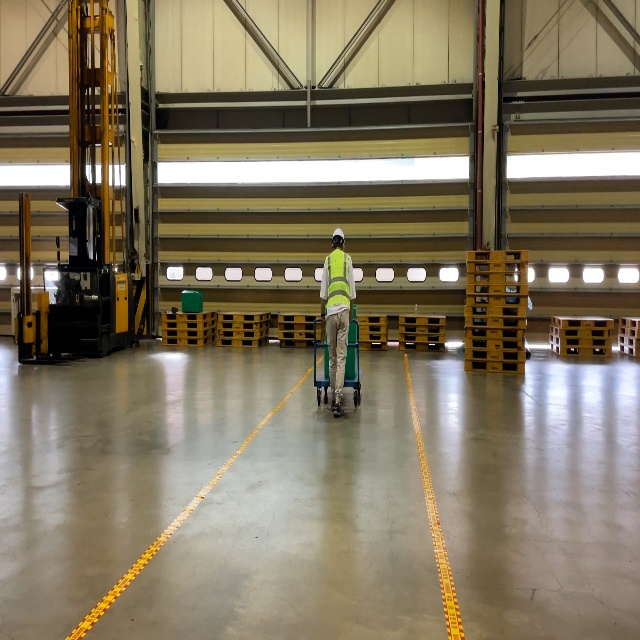Worker: (320, 228, 356, 418)
